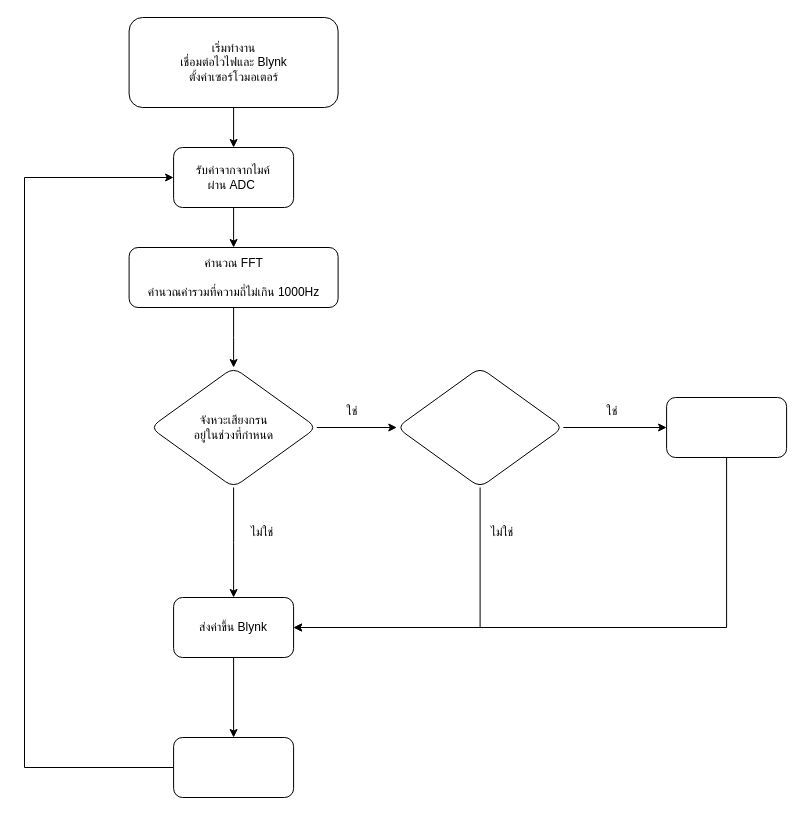
The diagram is 805 pixels wide and 815 high, and some of its shapes have lost their labels. Here are the shapes that lost their labels. From the top down, the box of each, then its label:
(396, 366, 563, 488): ครบ5ครั้ง
(666, 396, 787, 458): ปรับองศามอเตอร์ เพื่อเปลี่ยนท่านอน
(173, 736, 294, 798): ดีเลย์ 50 ms
